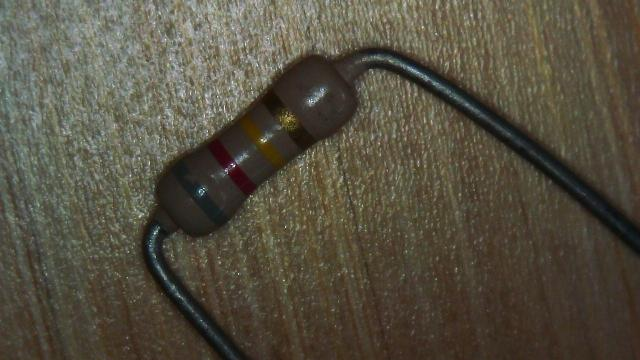gold: (262, 90, 312, 148)
grey: (170, 159, 228, 228)
red: (207, 138, 256, 196)
resistor: (108, 17, 386, 274)
yellow: (237, 114, 286, 168)
